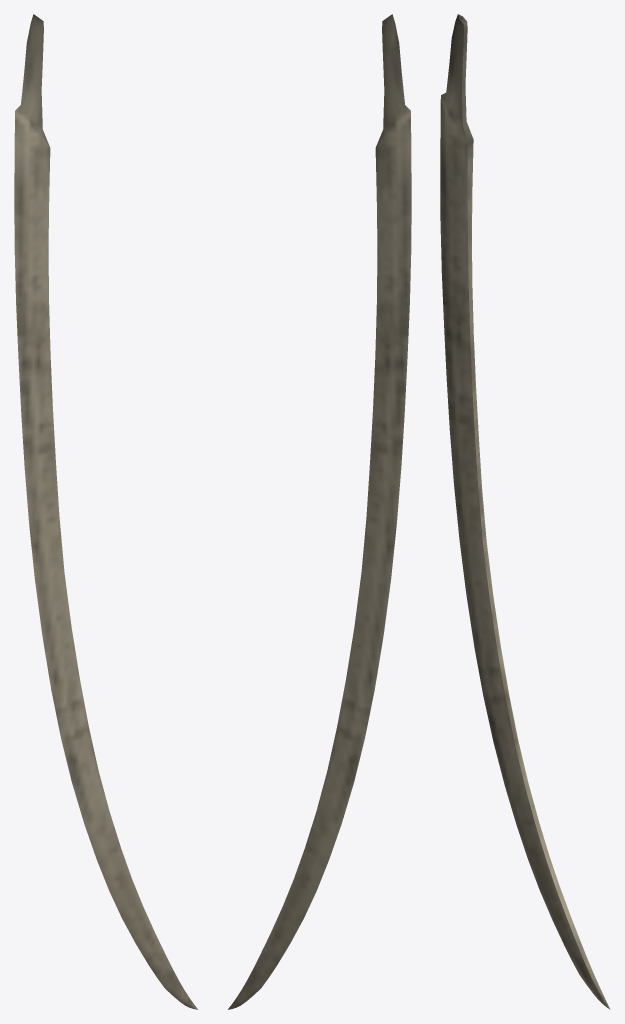
File: weapon-wp_a_0552.glb
The picture shows the model from 3 angles, left to right: view 1: azimuth 30°, elevation 25°; view 2: azimuth 150°, elevation 25°; view 3: azimuth 330°, elevation 25°; orthographic projection. The views are drawn at different scales.
Parts seen in each view (by area): view 1: wp_a_0552_mesh; view 2: wp_a_0552_mesh; view 3: wp_a_0552_mesh.
Boxes of the visible parts, x1,y1,x2,y2 form: wp_a_0552_mesh: [14, 14, 197, 1009]; wp_a_0552_mesh: [228, 14, 411, 1009]; wp_a_0552_mesh: [440, 14, 610, 1009].
Size of the model in its own units: 0.3223 by 1.73 by 0.0213.
1 material, 1 textured.
